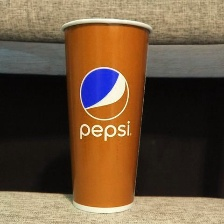paper_cup: (57, 12, 154, 218)
